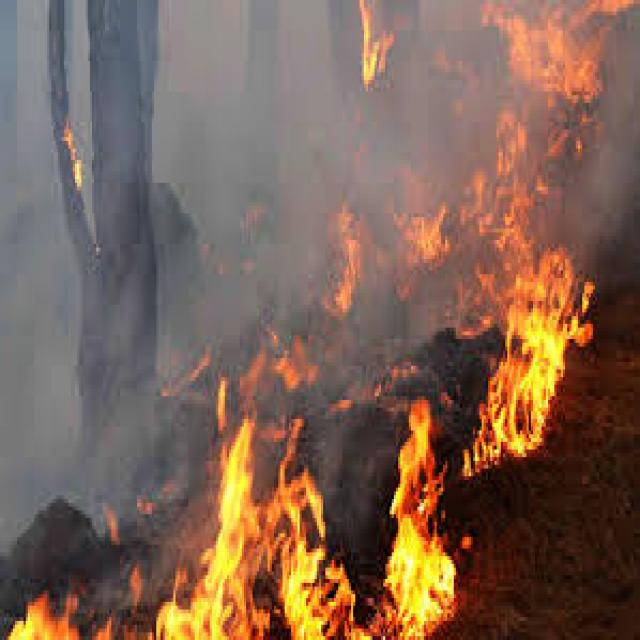fire: (467, 4, 638, 476), (160, 179, 454, 392), (150, 392, 370, 640), (377, 396, 462, 640), (2, 590, 118, 640), (353, 4, 392, 95), (58, 126, 81, 194)
